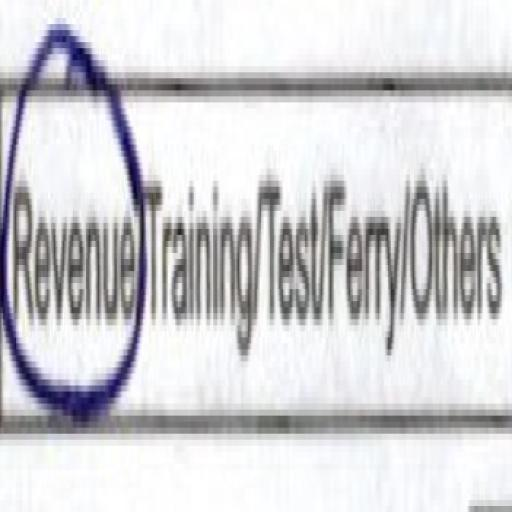check: (3, 0, 141, 466)
